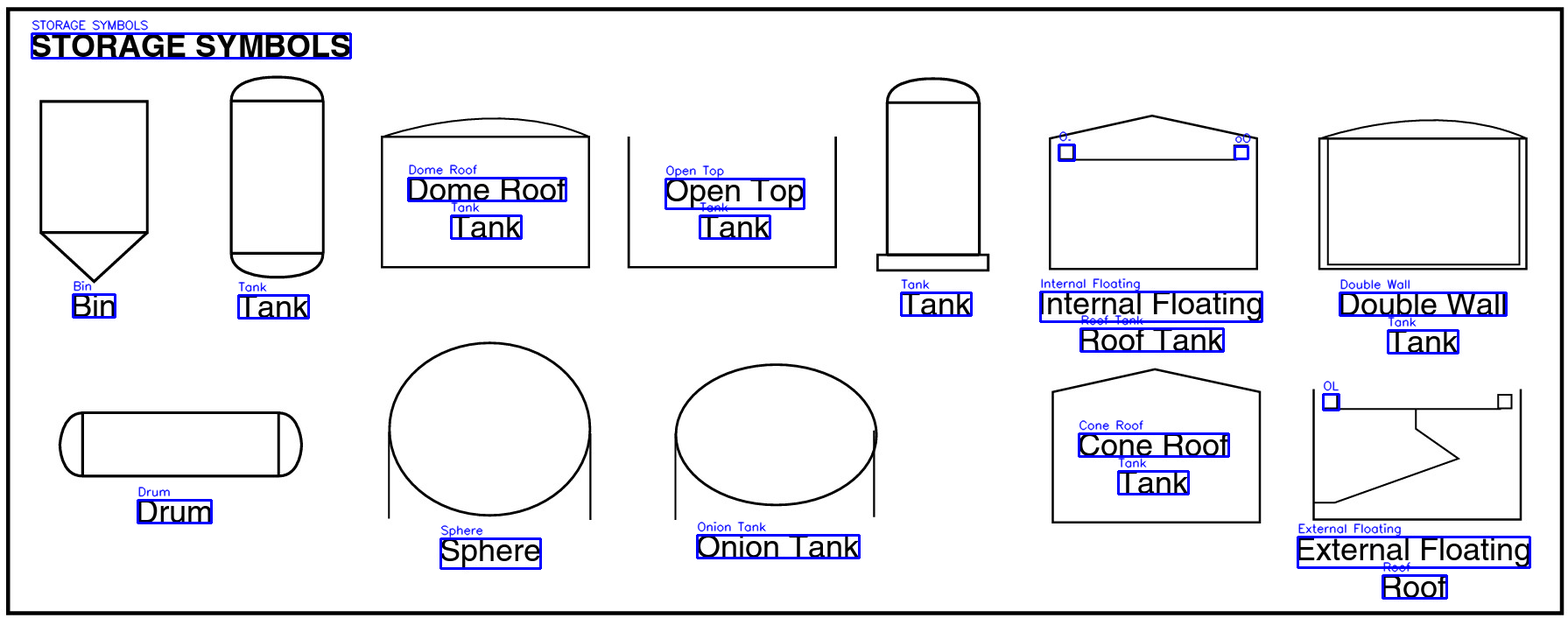Outro: (31, 88, 155, 291), (53, 405, 306, 481)
Tanque: (382, 337, 603, 529), (1042, 363, 1268, 532), (1038, 113, 1267, 277), (1310, 114, 1534, 279), (669, 359, 885, 524), (373, 115, 598, 273), (621, 126, 844, 276), (1305, 378, 1529, 527), (867, 75, 996, 280), (220, 72, 334, 284)
